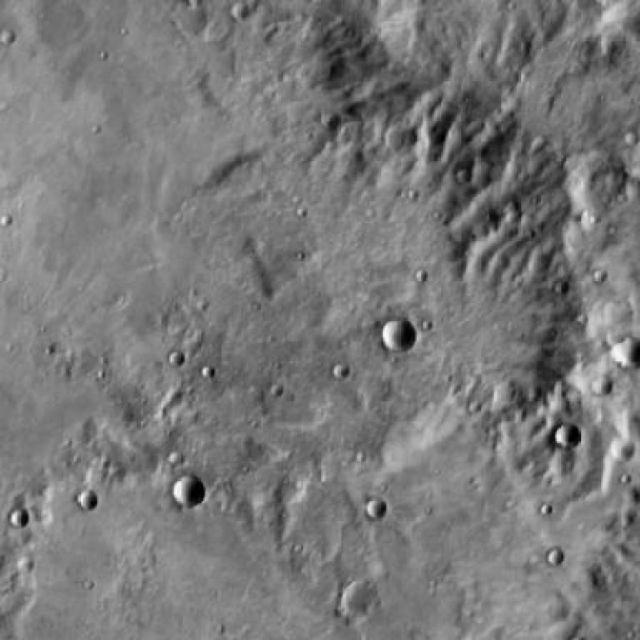crater: (168, 472, 201, 505), (607, 332, 640, 364), (377, 312, 409, 345), (550, 420, 575, 445), (604, 432, 628, 456), (72, 484, 92, 504), (588, 368, 608, 388), (363, 495, 382, 513), (15, 512, 33, 530), (16, 554, 33, 572), (548, 551, 563, 566)
